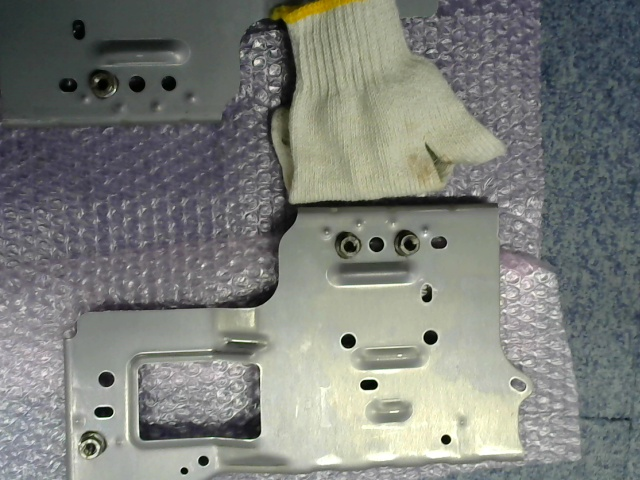dog: (89, 70, 119, 100), (78, 429, 106, 459), (393, 228, 420, 257), (335, 230, 361, 257)
